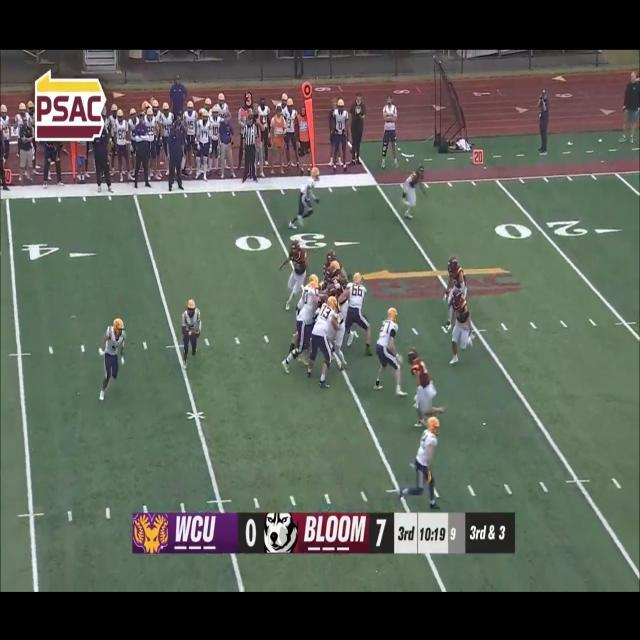football: (190, 326, 202, 343)
